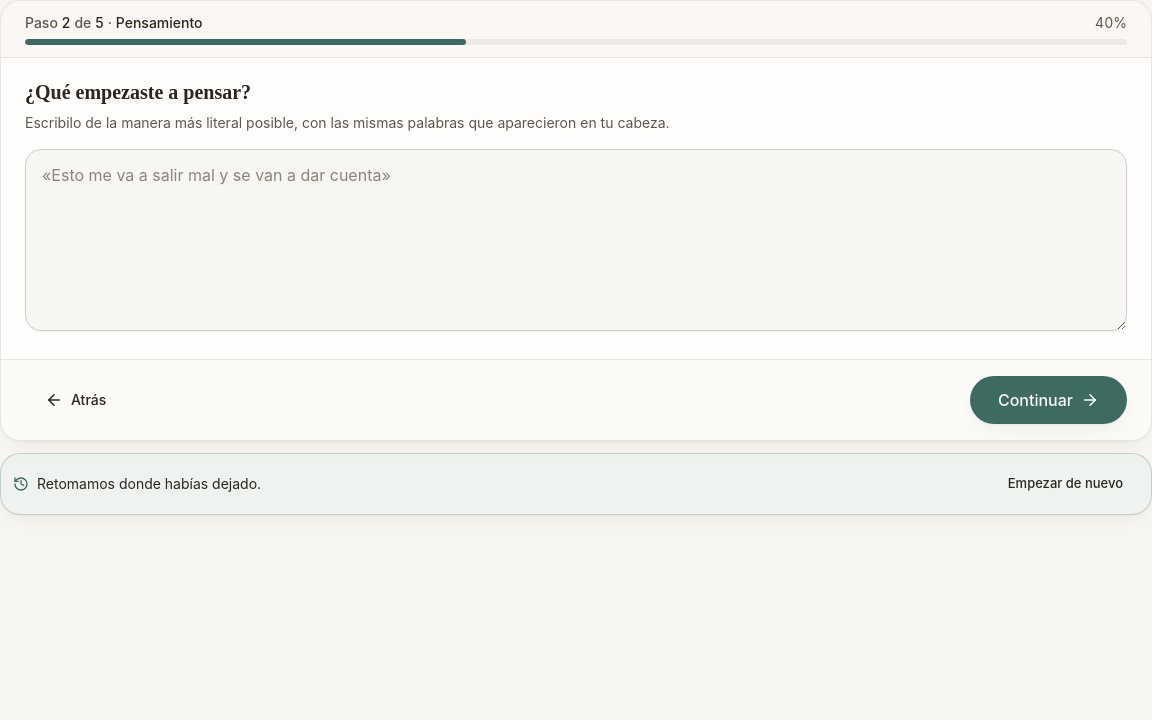
Test: restauración del borrador › retoma el paso y el contenido guardados
This screenshot has width=1152, height=720.
Expected: the heading "¿Qué empezaste a pensar?" is shown, [25,78,251,106]
Expected: the text "Retomamos donde habías dejado." is shown, [13,474,261,494]
# Y el paso 1 conserva lo escrito.
Click the button "Atrás" at (76, 400), box [25,378,126,422]
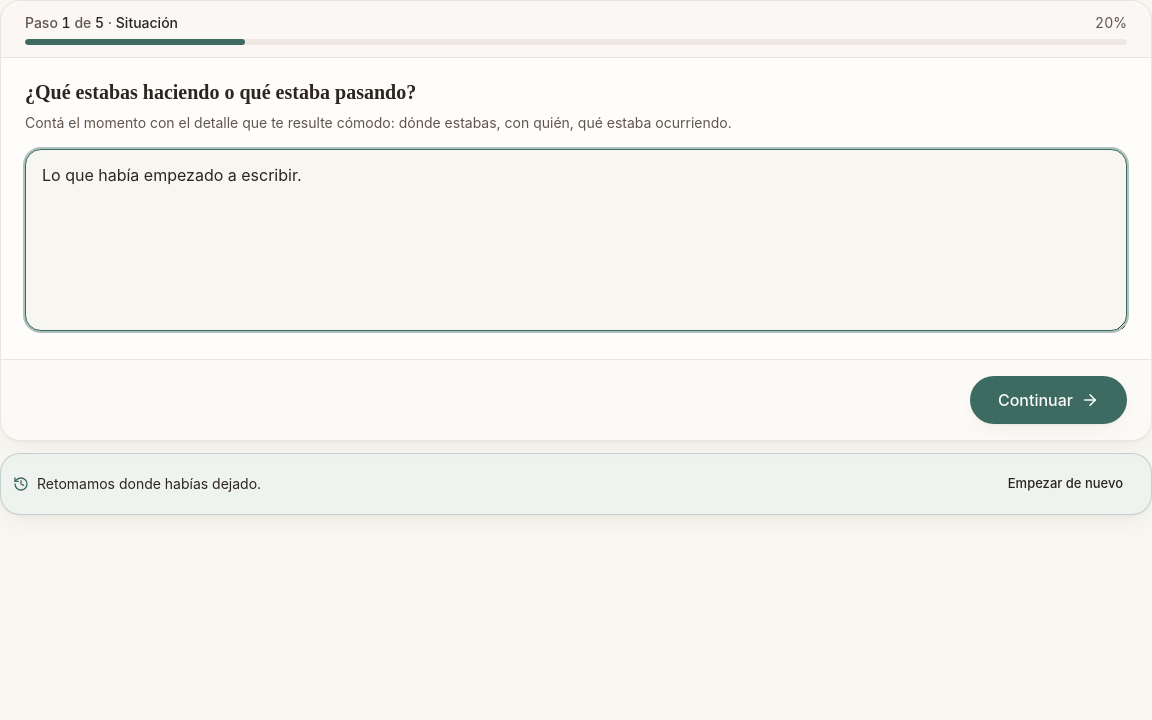
Expected: the text box named "qué estabas haciendo" holds "Lo que había empezado a escribir.", [25,149,1127,331]
